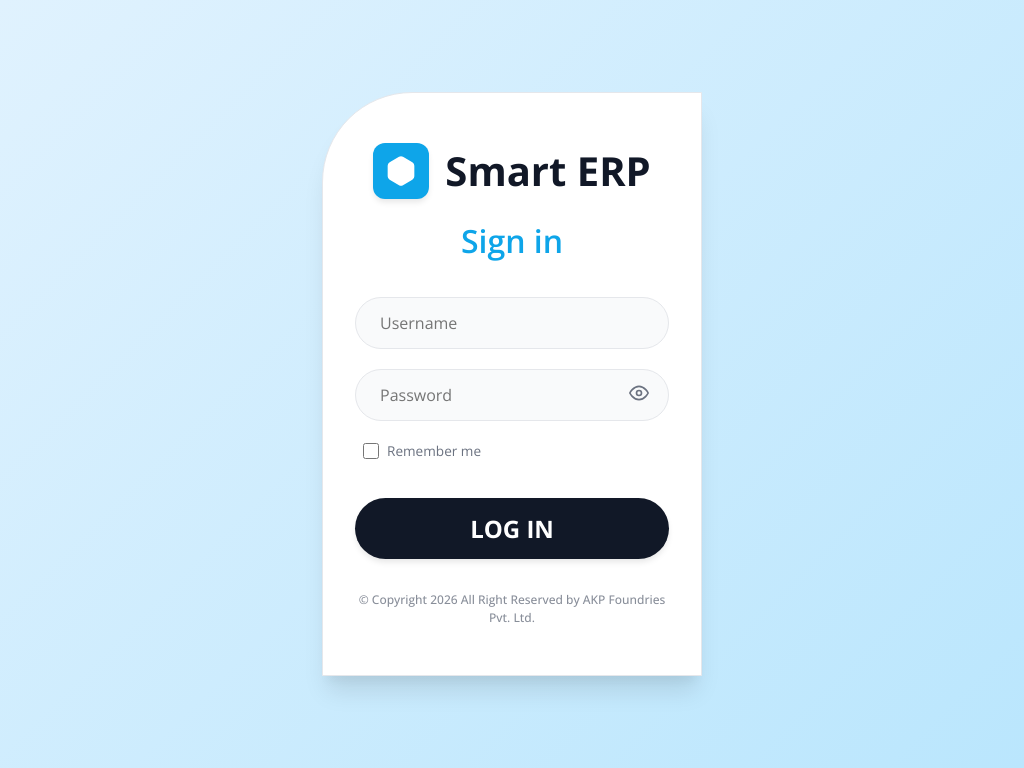
Scenario: Login Component › Form Submission › shows loading state during login
In the field with placeholder "Username": (512, 323) x1=355 y1=297 x2=669 y2=349, type "testuser"
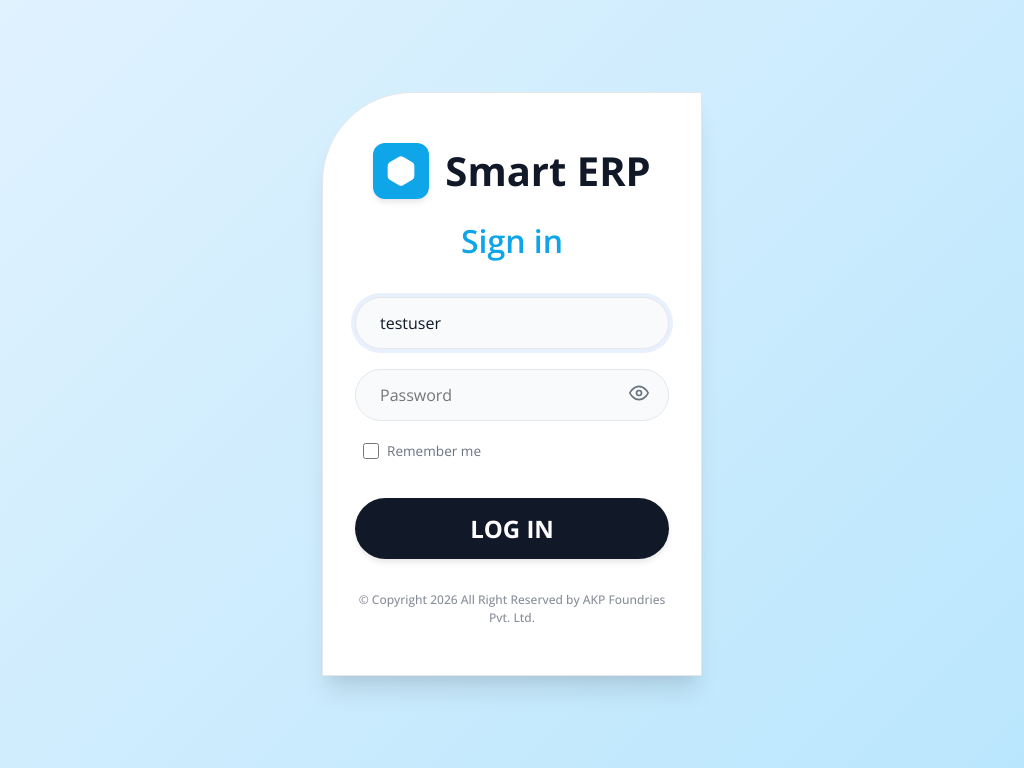
In the password field with placeholder "Password": (512, 395) x1=355 y1=369 x2=669 y2=421, type "password123"
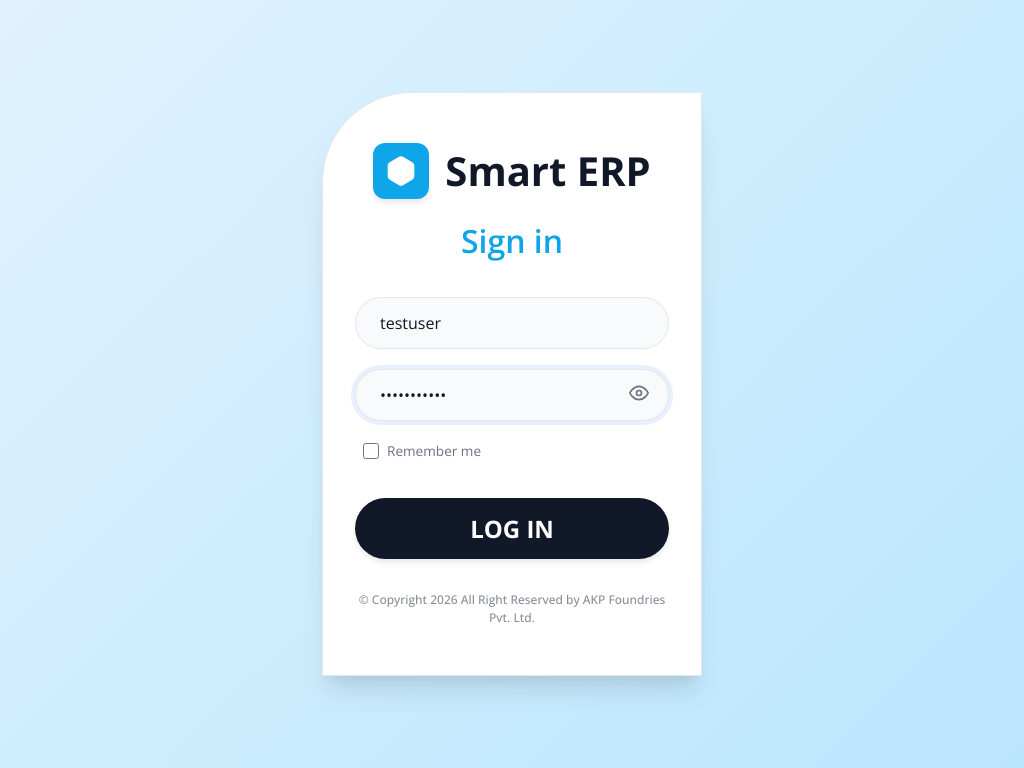
Click the button "Log in": click(512, 528) x1=355 y1=498 x2=669 y2=559
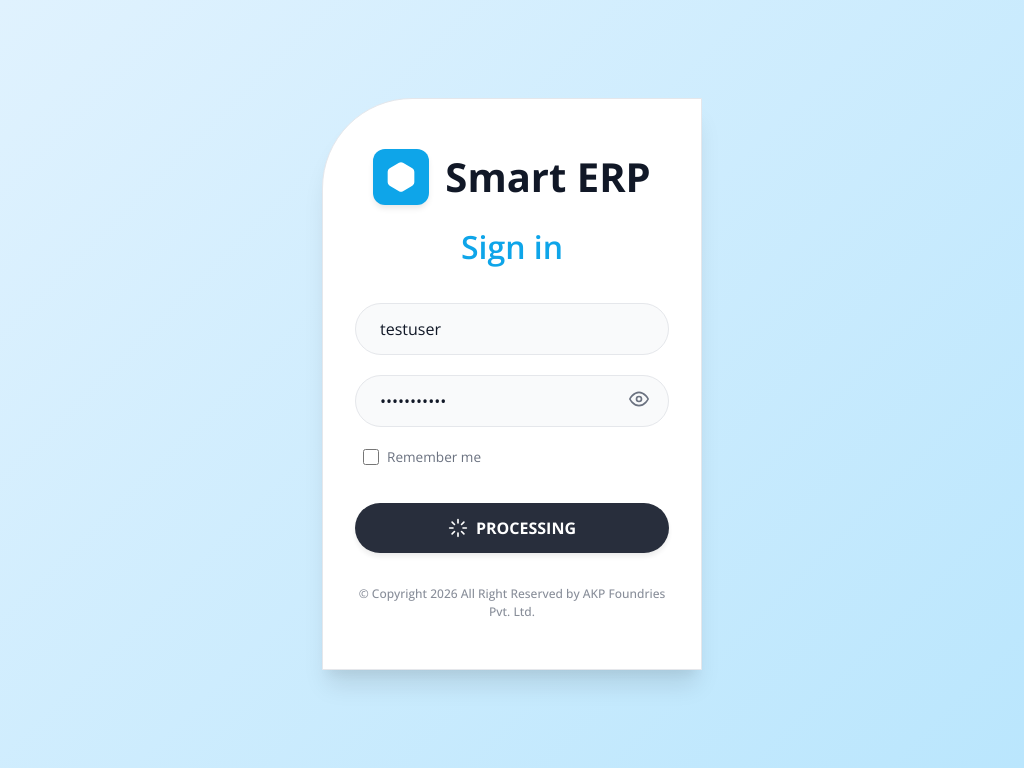
Now the button "Processing" is shown, box x1=355 y1=503 x2=669 y2=553
